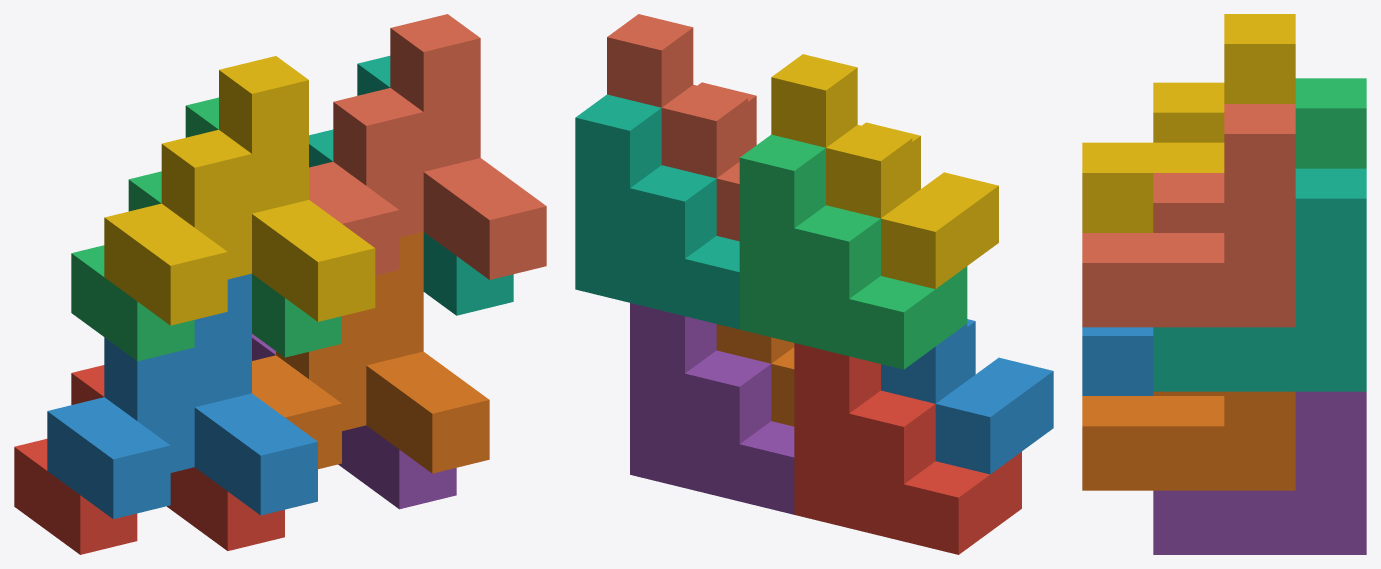
Rendered from tiling.obj.
3 renders of one model, left to right at view 1: azimuth 30°, elevation 25°; view 2: azimuth 150°, elevation 25°; view 3: azimuth 270°, elevation 25°, orthographic. The views are drawn at different scales.
Visible parts, largest first — view 1: copy_1_domain_4, copy_1_domain_8, copy_1_domain_2, copy_1_domain_6, copy_1_domain_1, copy_1_domain_3, copy_1_domain_7, copy_1_domain_5; view 2: copy_1_domain_3, copy_1_domain_1, copy_1_domain_7, copy_1_domain_5, copy_1_domain_4, copy_1_domain_8, copy_1_domain_2, copy_1_domain_6; view 3: copy_1_domain_8, copy_1_domain_7, copy_1_domain_6, copy_1_domain_5, copy_1_domain_4, copy_1_domain_3, copy_1_domain_2.
Part boxes in pixels (x1,y1,x2,y2): copy_1_domain_4: [104, 56, 375, 325]; copy_1_domain_8: [309, 14, 546, 279]; copy_1_domain_2: [47, 273, 317, 519]; copy_1_domain_6: [252, 232, 489, 473]; copy_1_domain_1: [14, 365, 284, 554]; copy_1_domain_3: [71, 97, 341, 361]; copy_1_domain_7: [309, 56, 513, 315]; copy_1_domain_5: [252, 334, 456, 509]; copy_1_domain_3: [739, 134, 967, 369]; copy_1_domain_1: [794, 343, 1021, 554]; copy_1_domain_7: [575, 94, 739, 329]; copy_1_domain_5: [630, 303, 794, 514]; copy_1_domain_4: [771, 54, 998, 288]; copy_1_domain_8: [607, 14, 756, 241]; copy_1_domain_2: [881, 319, 1053, 474]; copy_1_domain_6: [716, 324, 794, 426]; copy_1_domain_8: [1082, 104, 1295, 327]; copy_1_domain_7: [1153, 168, 1366, 391]; copy_1_domain_6: [1082, 391, 1295, 490]; copy_1_domain_5: [1153, 391, 1366, 554]; copy_1_domain_4: [1082, 14, 1295, 232]; copy_1_domain_3: [1295, 78, 1366, 168]; copy_1_domain_2: [1082, 327, 1153, 395].
Size of the model in its own units: 7 by 7 by 4.
